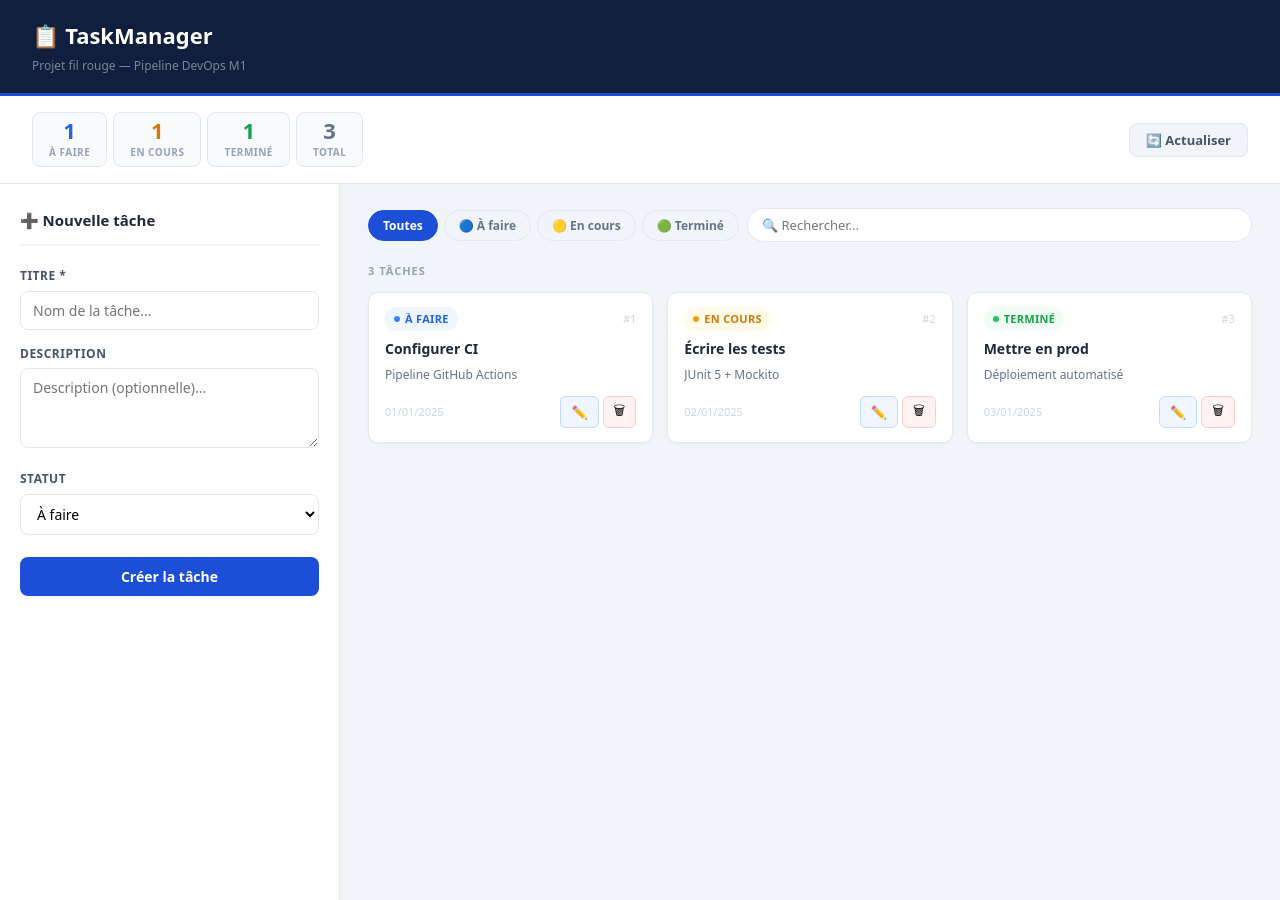
Test: App — Tests d'intégration (avec MSW) › filtre localement par statut TODO sans appel API supplémentaire
Expected: the heading "Configurer CI" is shown, x1=385 y1=339 x2=478 y2=358
Click the button "🔵 À faire" at (487, 225), box x1=444 y1=210 x2=531 y2=241
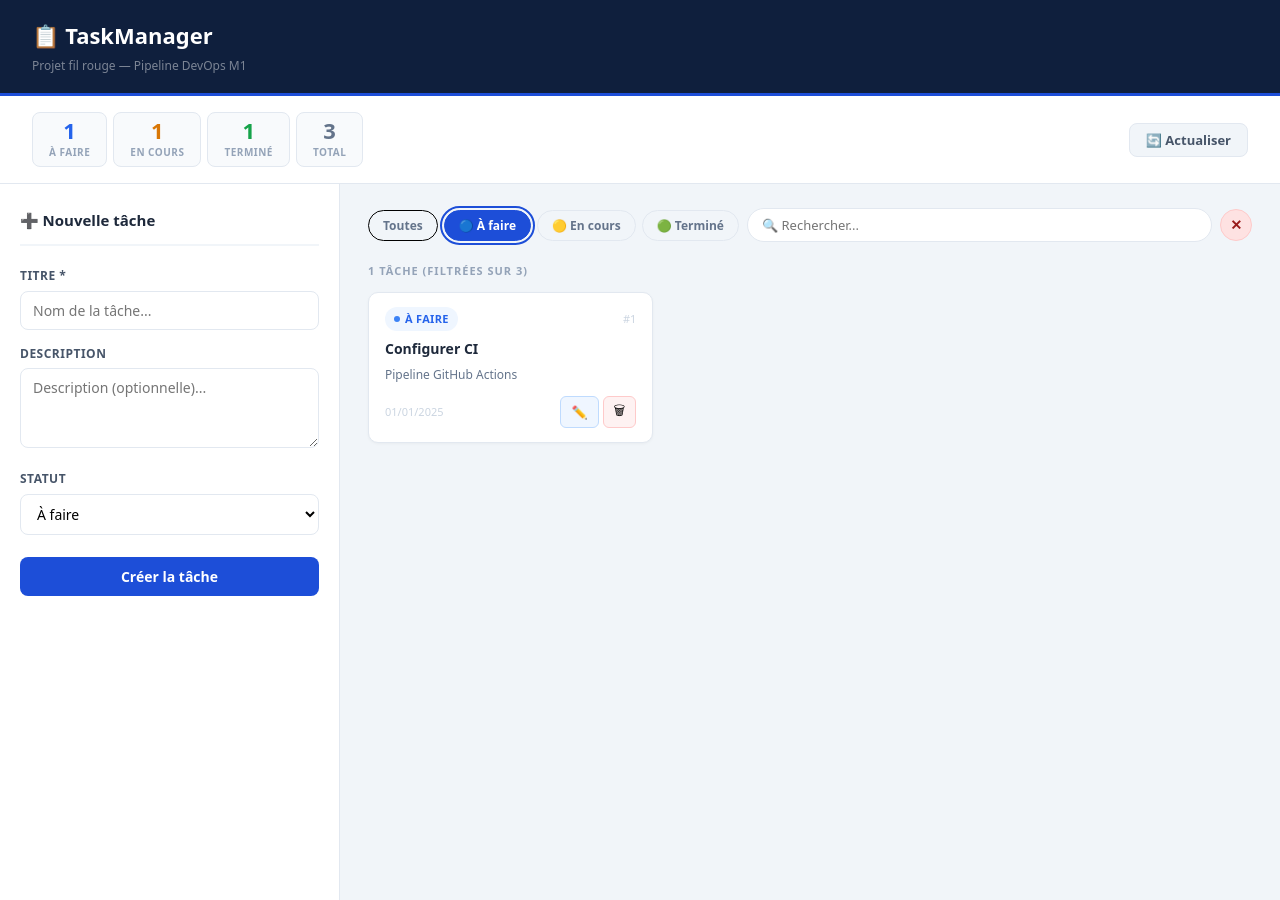
Expected: the heading "Configurer CI" is shown, x1=385 y1=339 x2=478 y2=358
Expected: the heading "Écrire les tests" is gone
Expected: the heading "Mettre en prod" is gone
